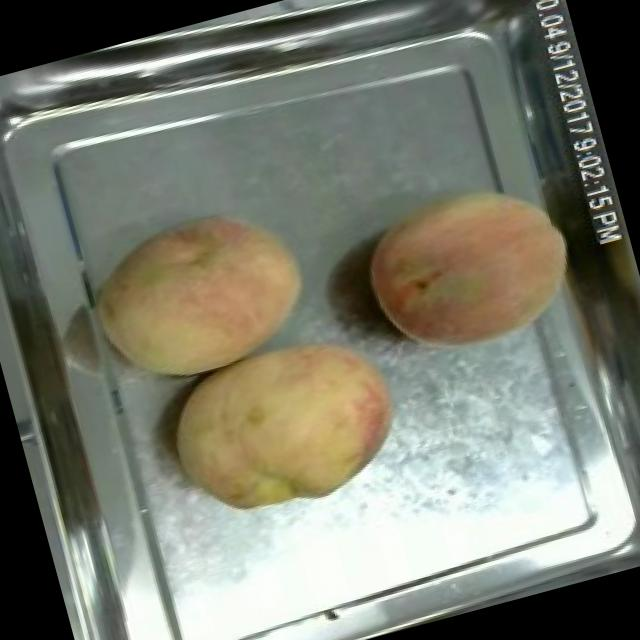Fruit: (154, 320, 418, 538), (342, 157, 594, 377), (79, 188, 328, 396)
